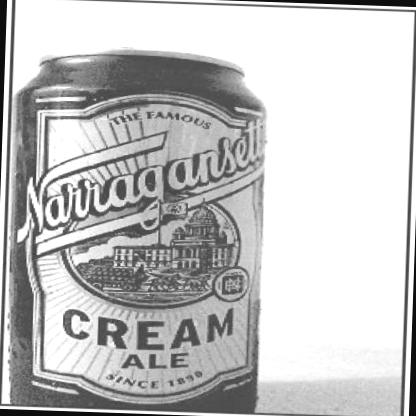alumunium_can: (5, 43, 272, 412)
